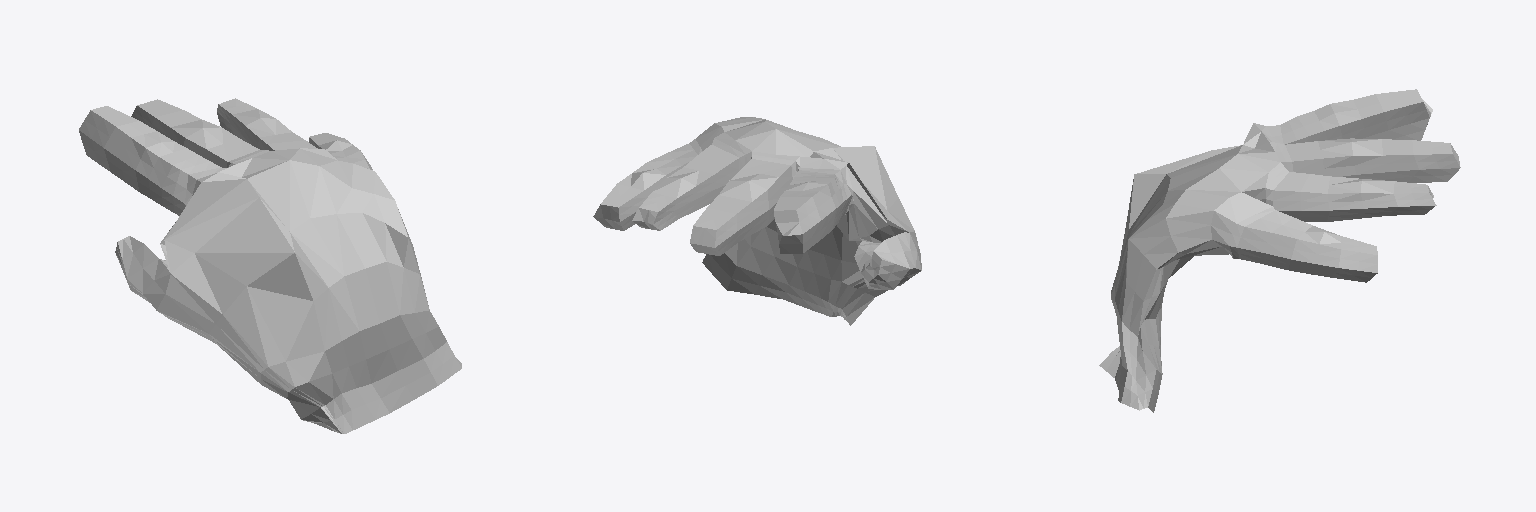
The model's file is flexion0038.obj.
3 renders of one model, left to right at view 1: azimuth 30°, elevation 25°; view 2: azimuth 150°, elevation 25°; view 3: azimuth 270°, elevation 25°, orthographic.
Visible parts, largest first — view 1: Hand; view 2: Hand; view 3: Hand.
Boxes of the visible parts, <box> form: Hand: <box>79,98,461,433</box>; Hand: <box>593,117,921,325</box>; Hand: <box>1099,89,1460,412</box>.
Bounding box in the file's own units: 3.27 × 2.75 × 3.77.